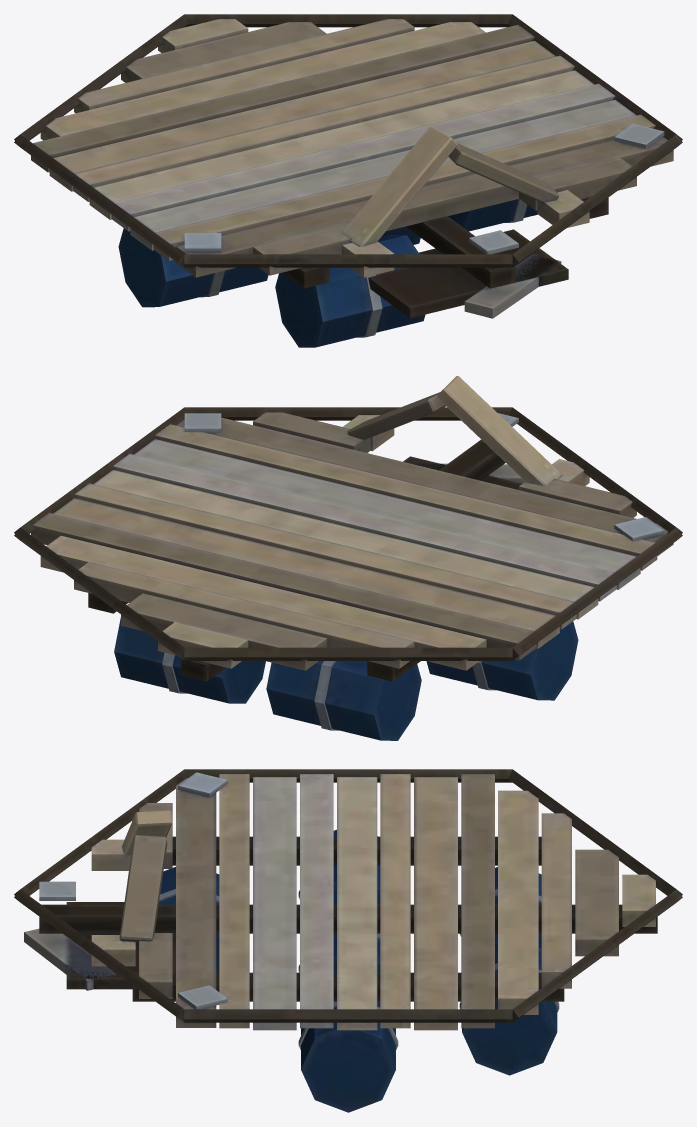
Rendered from raft-damaged-age10.glb.
The picture shows the model from 3 angles, top to bottom: view 1: azimuth 30°, elevation 25°; view 2: azimuth 150°, elevation 25°; view 3: azimuth 270°, elevation 25°; orthographic projection.
Visible parts, largest first — view 1: raft-damaged-age10; view 2: raft-damaged-age10; view 3: raft-damaged-age10.
Boxes of the visible parts, x1,y1,x2,y2 form: raft-damaged-age10: (14,14,682,347); raft-damaged-age10: (14,376,682,740); raft-damaged-age10: (14,769,682,1112).
Bounding box in the file's own units: 1.59 × 0.6018 × 1.83.
Materials: 1 (1 with a texture image).
